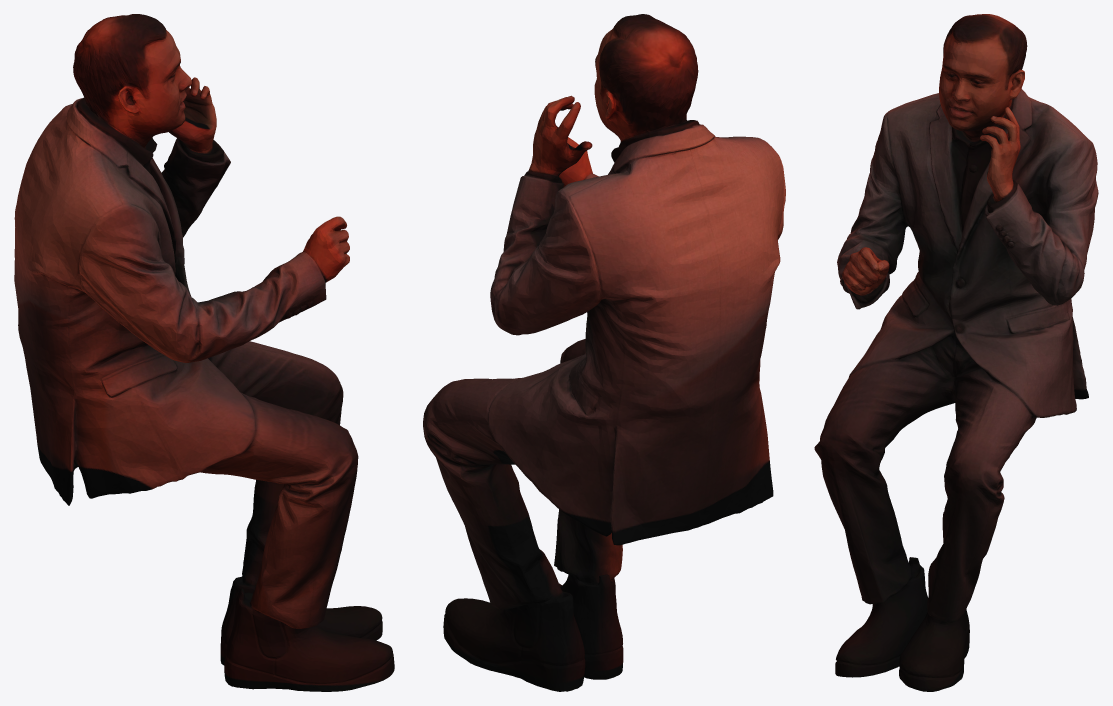
Rendered from man3.glb.
3 views of the same model, side by side, from view 1: azimuth 30°, elevation 25°; view 2: azimuth 150°, elevation 25°; view 3: azimuth 270°, elevation 25° (orthographic). The views are drawn at different scales.
Parts seen in each view (by area): view 1: 00246_Zeef006; view 2: 00246_Zeef006; view 3: 00246_Zeef006.
Part boxes in pixels (x1=…): 00246_Zeef006: x1=14, y1=14, x2=394, y2=691; 00246_Zeef006: x1=423, y1=14, x2=785, y2=691; 00246_Zeef006: x1=814, y1=14, x2=1098, y2=691.
Size of the model in its own units: 2.64 by 5.05 by 2.21.
Materials: 1 (1 with a texture image).
